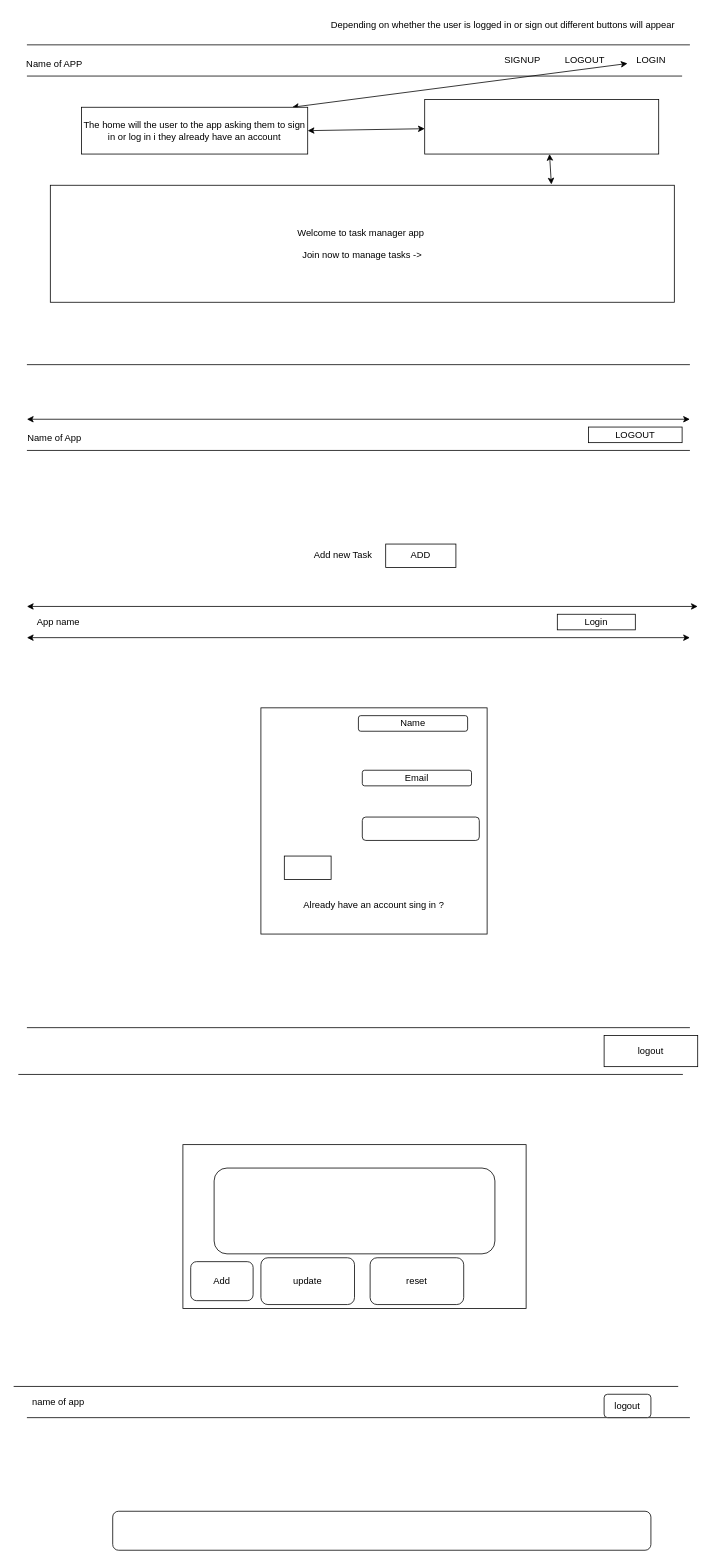
The diagram is 718 pixels wide and 1564 high, and some of its shapes have lost their labels. Each missing label, with the centre of its shape:
"Any task" belongs at (x=354, y=1210).
"More or less what the home design would look like" belongs at (x=541, y=126).
"name of task edit delete" belongs at (x=381, y=1530).
"password" belongs at (x=420, y=828).
"submit" belongs at (x=307, y=867).
